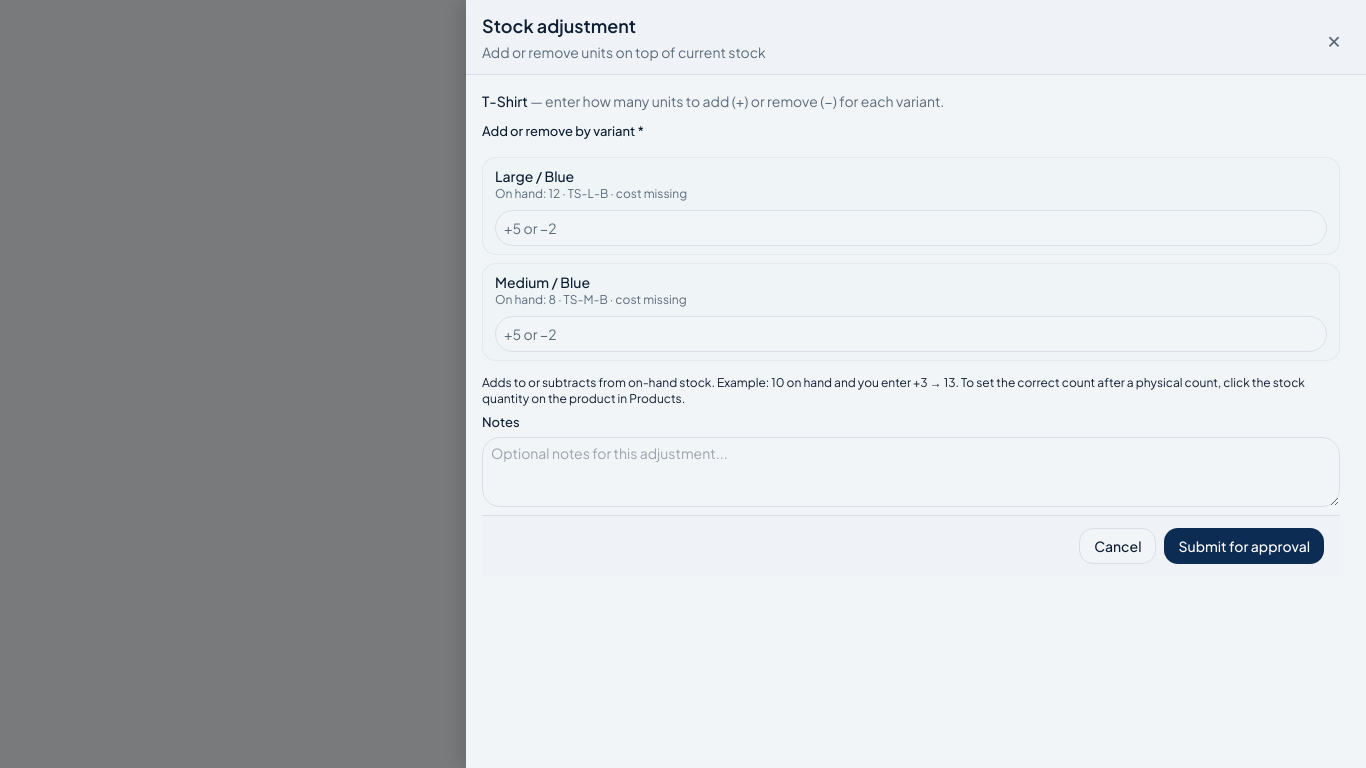
StockAdjustmentModal › requires reason when maker-checker is on
This screenshot has width=1366, height=768.
Expected: the text "Large / Blue" is shown, [495,167,574,185]
Type "3" into the field with placeholder "+5 or −2" below "12" at (911, 228), box [495,210,1327,246]
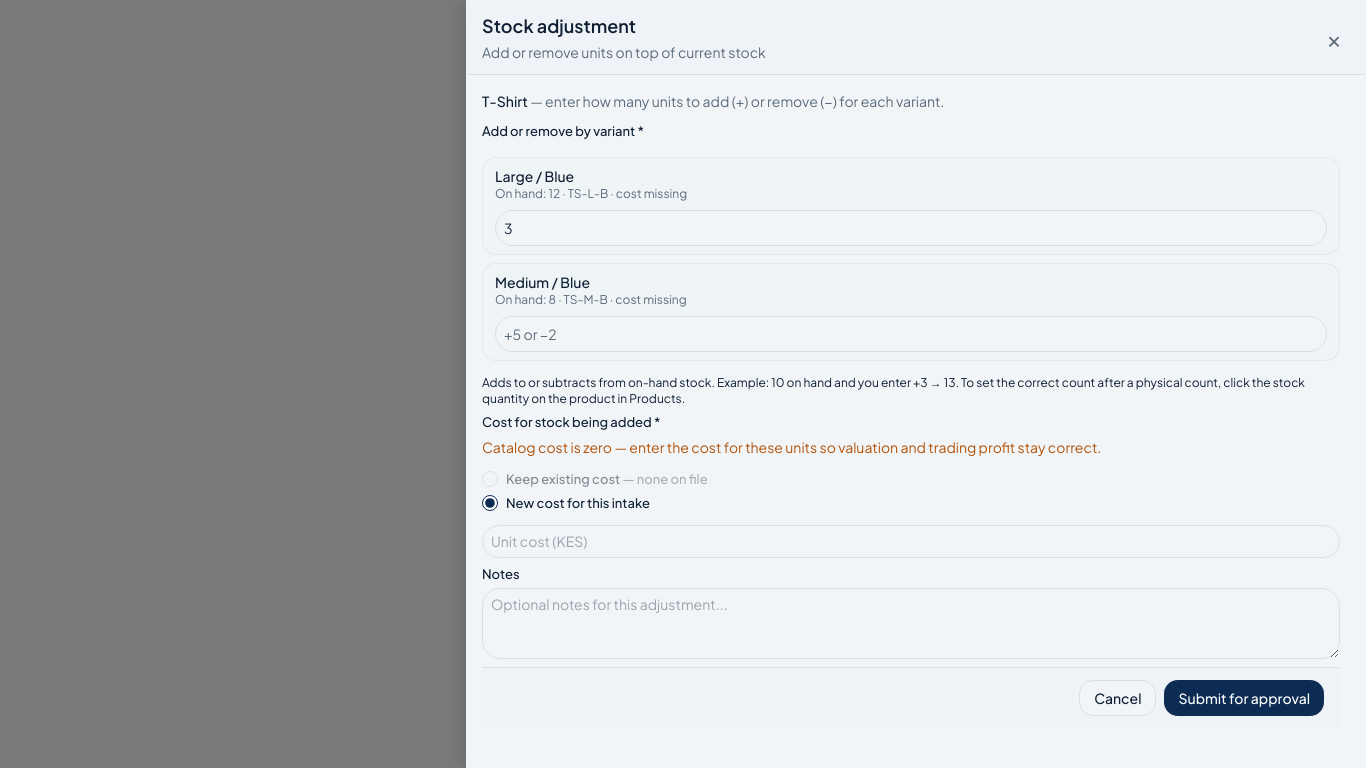
Click the button "Submit for approval" at (1244, 698), box [1164,680,1324,716]
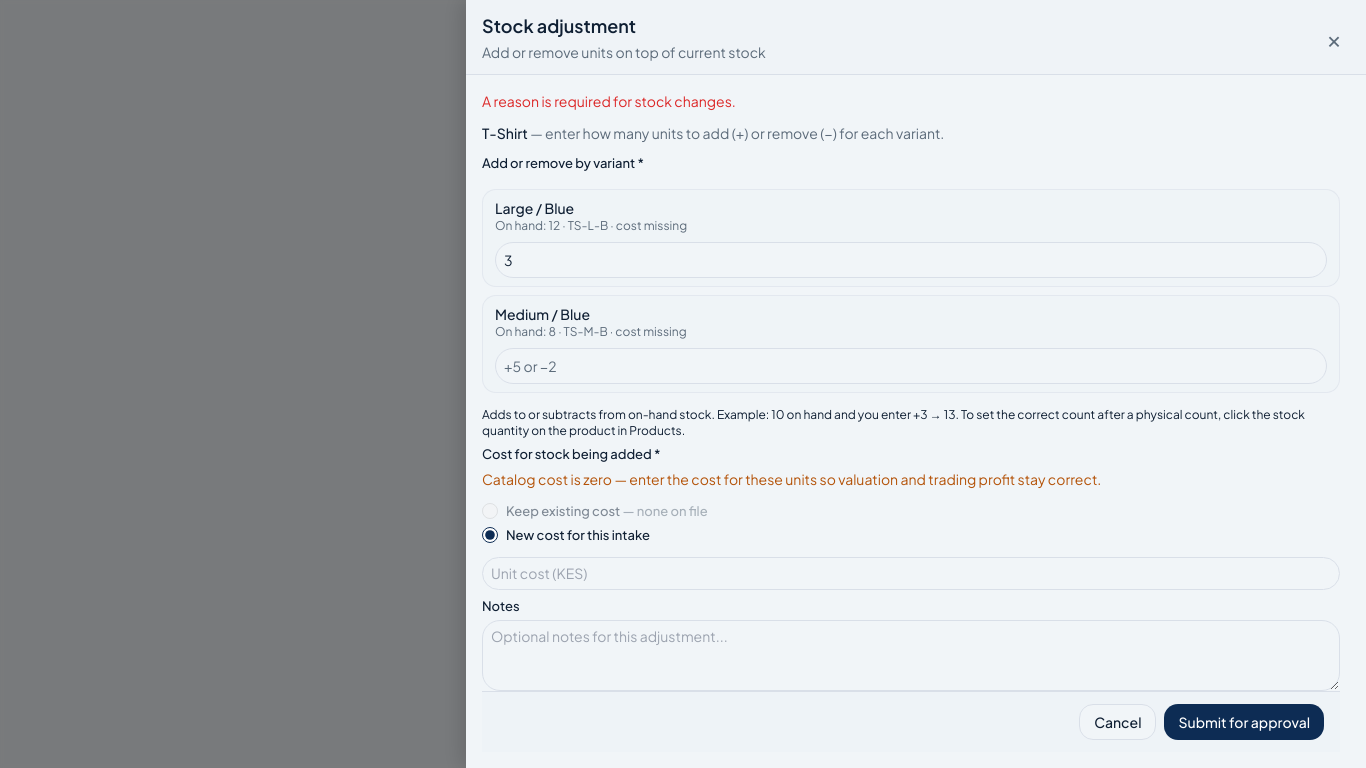
Expected: the text "A reason is required for stock changes." is shown, [482,92,736,110]
